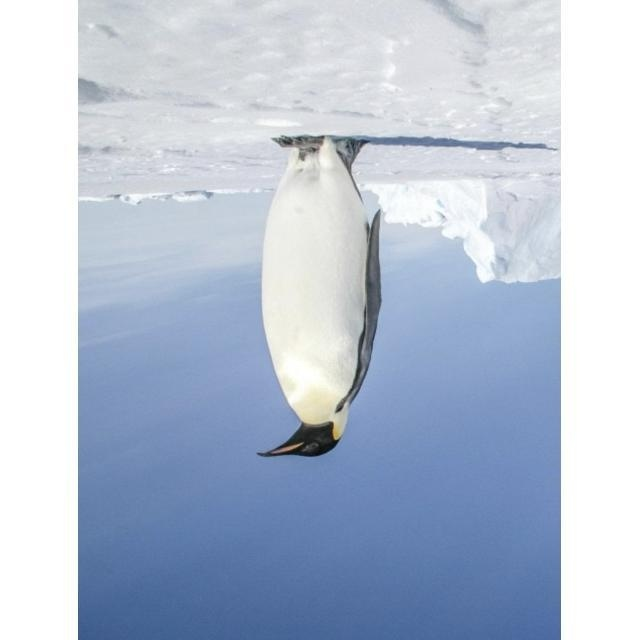penguin: (258, 135, 385, 459)
